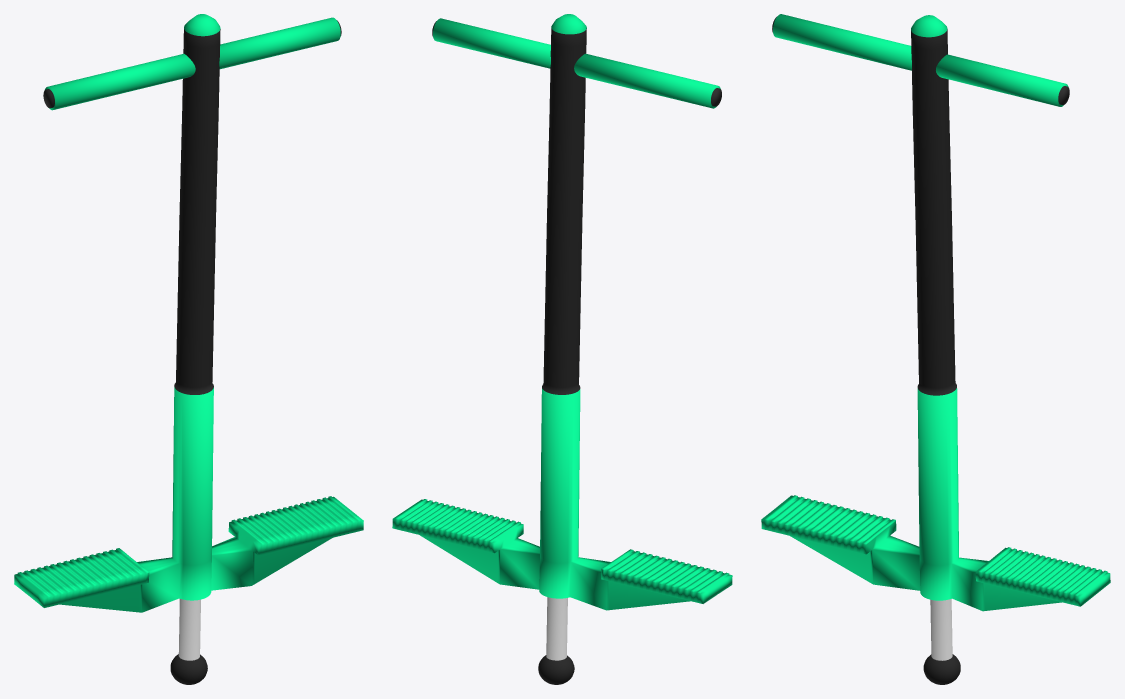
The model's file is pogo_stick_animasyon.fbx.
3 views of the same model, side by side, from view 1: azimuth 30°, elevation 25°; view 2: azimuth 150°, elevation 25°; view 3: azimuth 330°, elevation 25° (orthographic). The views are drawn at different scales.
Visible parts, largest first — view 1: Sphere, Sphere.001; view 2: Sphere, Sphere.001; view 3: Sphere, Sphere.001.
Boxes of the visible parts, box(x1,y1,x2,y2) form: Sphere: box(14, 14, 363, 612); Sphere.001: box(170, 599, 207, 684); Sphere: box(392, 14, 732, 610); Sphere.001: box(538, 597, 574, 684); Sphere: box(761, 14, 1110, 611); Sphere.001: box(923, 599, 960, 684).
Size of the model in its own units: 162 by 326 by 29.97.
